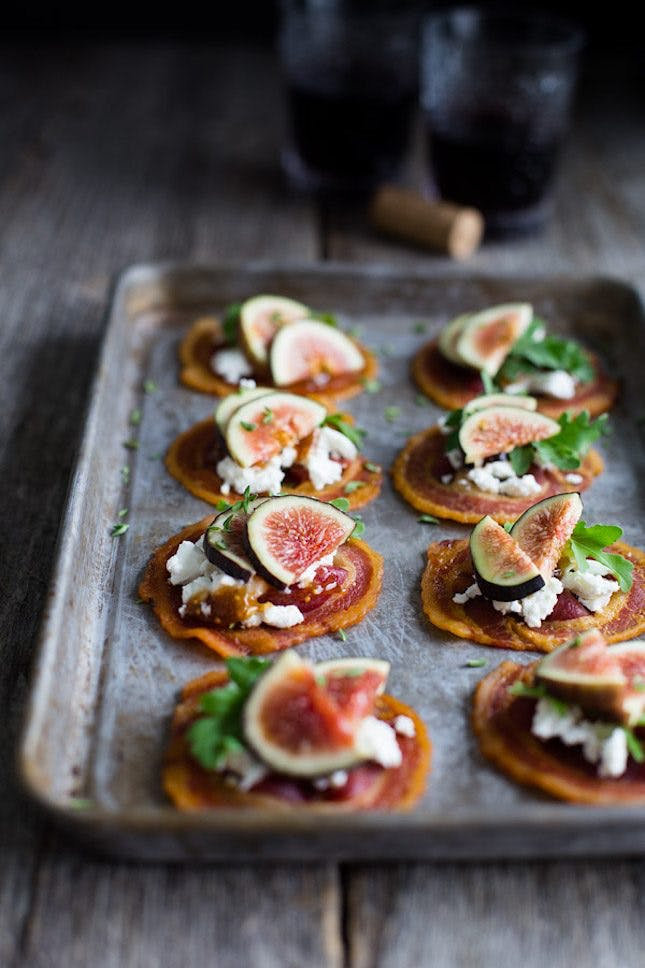cheese: (237, 648, 399, 766), (229, 491, 349, 583)
